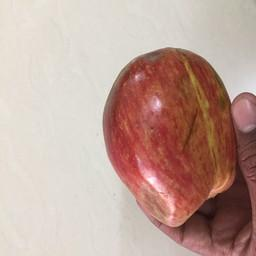Bad_apple: (101, 47, 256, 237)
